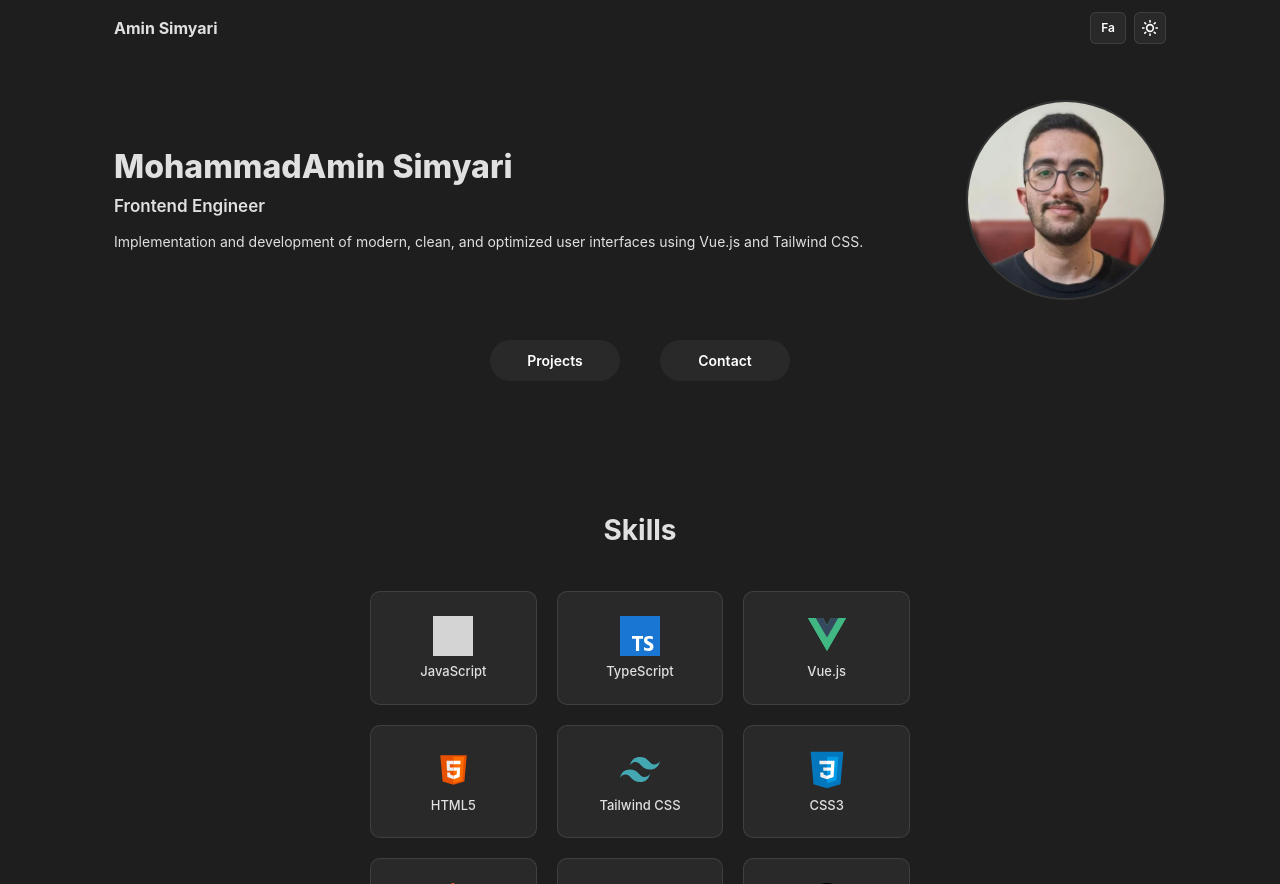
Scenario: App › Language switching › english shows skills section in english
Click the button with class "lang-toggle" at (1108, 28), box [1090,12,1126,44]
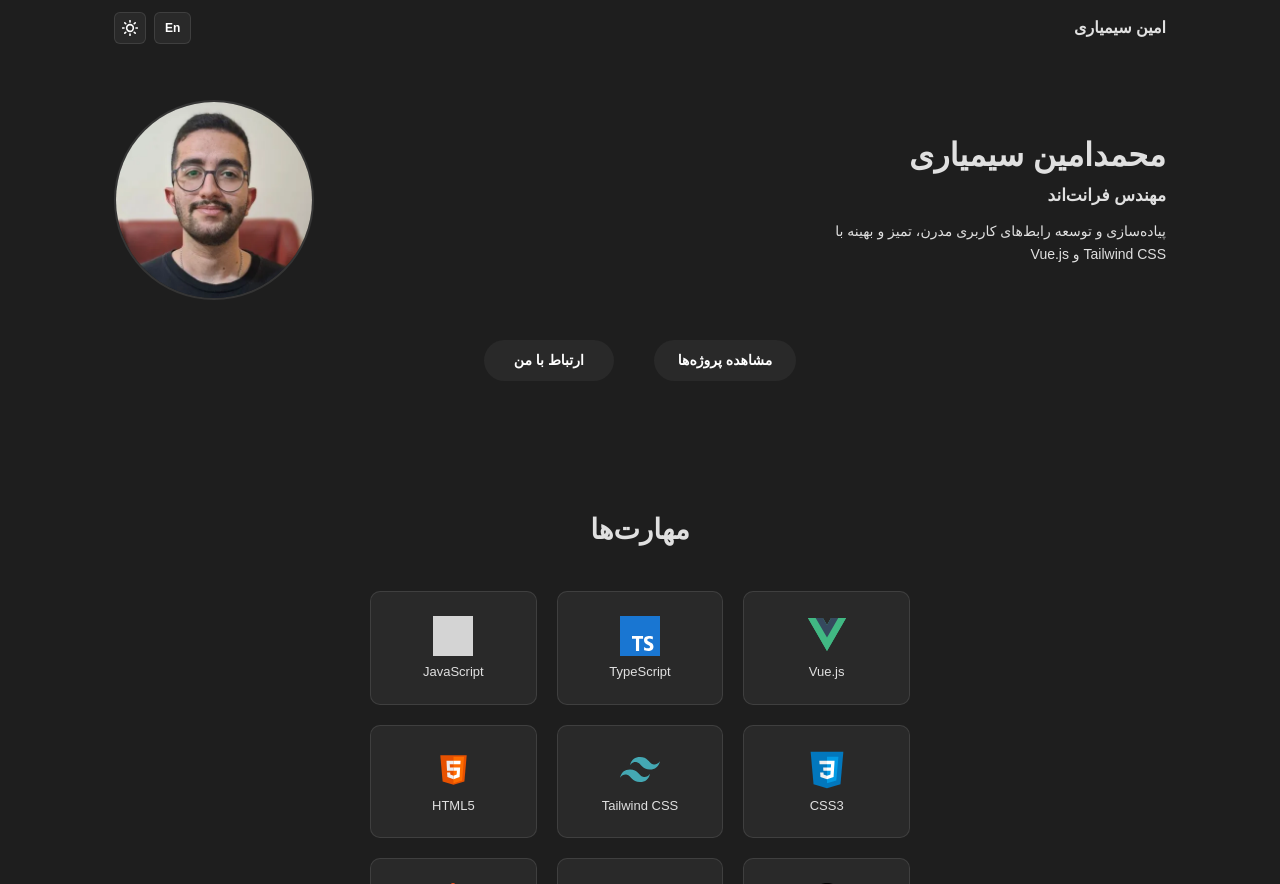
Click the button with class "lang-toggle" at (173, 28), box [154,12,191,44]
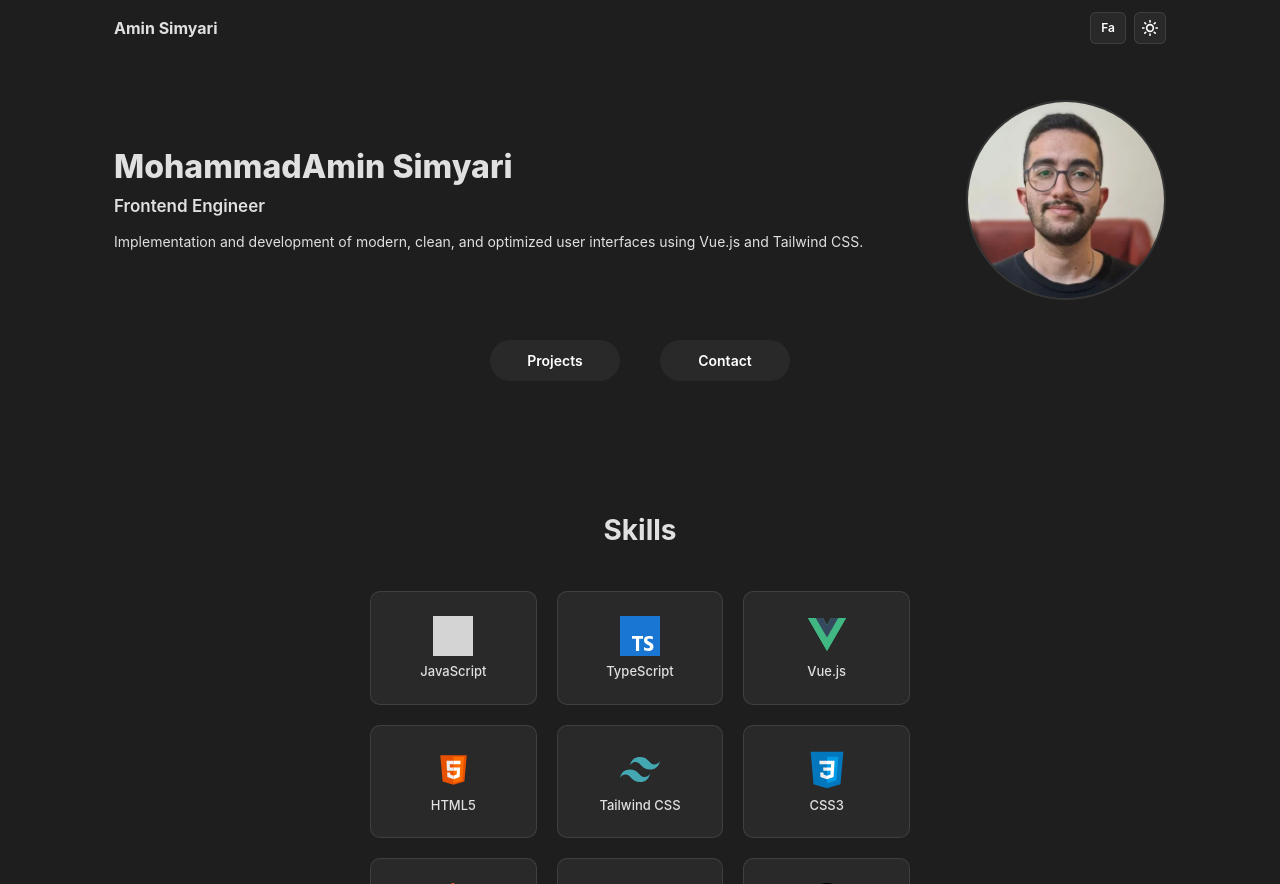
Check: the text "Skills" is shown, box [604,513,676,547]
